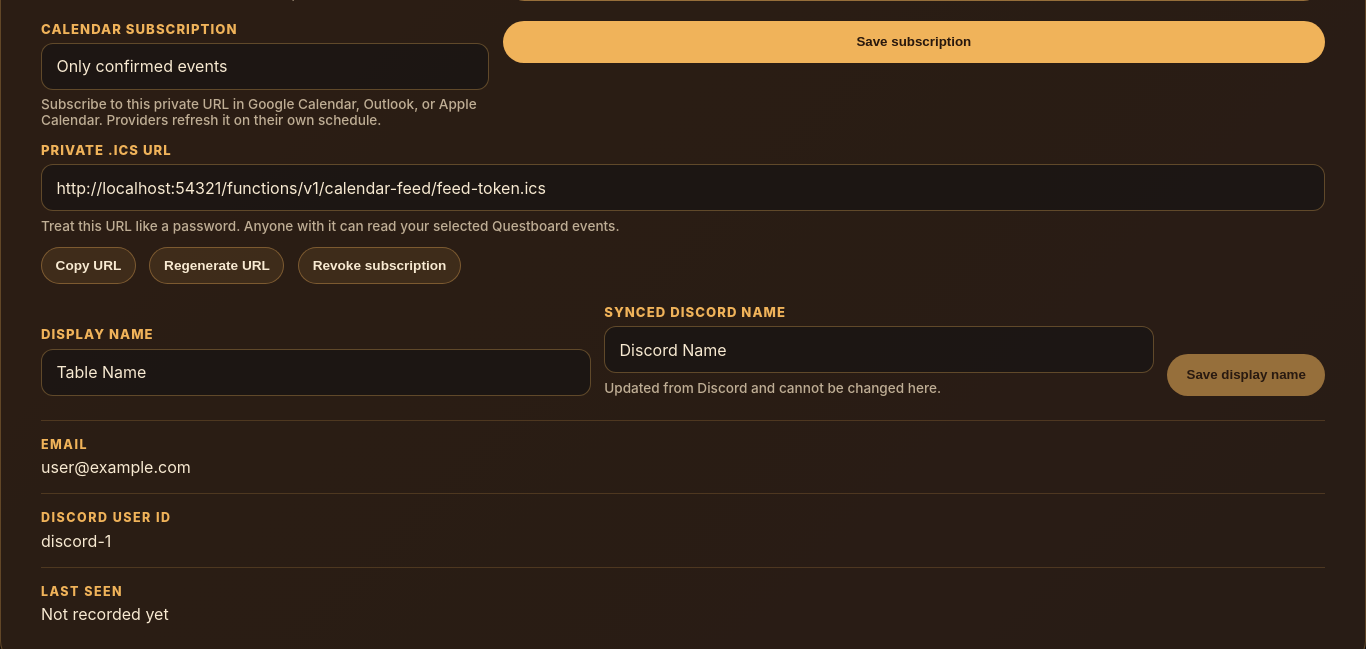
Test: ProfilePage › revokes an existing calendar subscription feed
(page scrolled)
Expected: the field labelled "Private .ics URL" holds "http://localhost:54321/functions/v1/calendar-feed/feed-token.ics", [41,164,1325,211]
Click the button "Revoke subscription" at coordinates (379, 266), box [298,247,461,284]
(page scrolled)
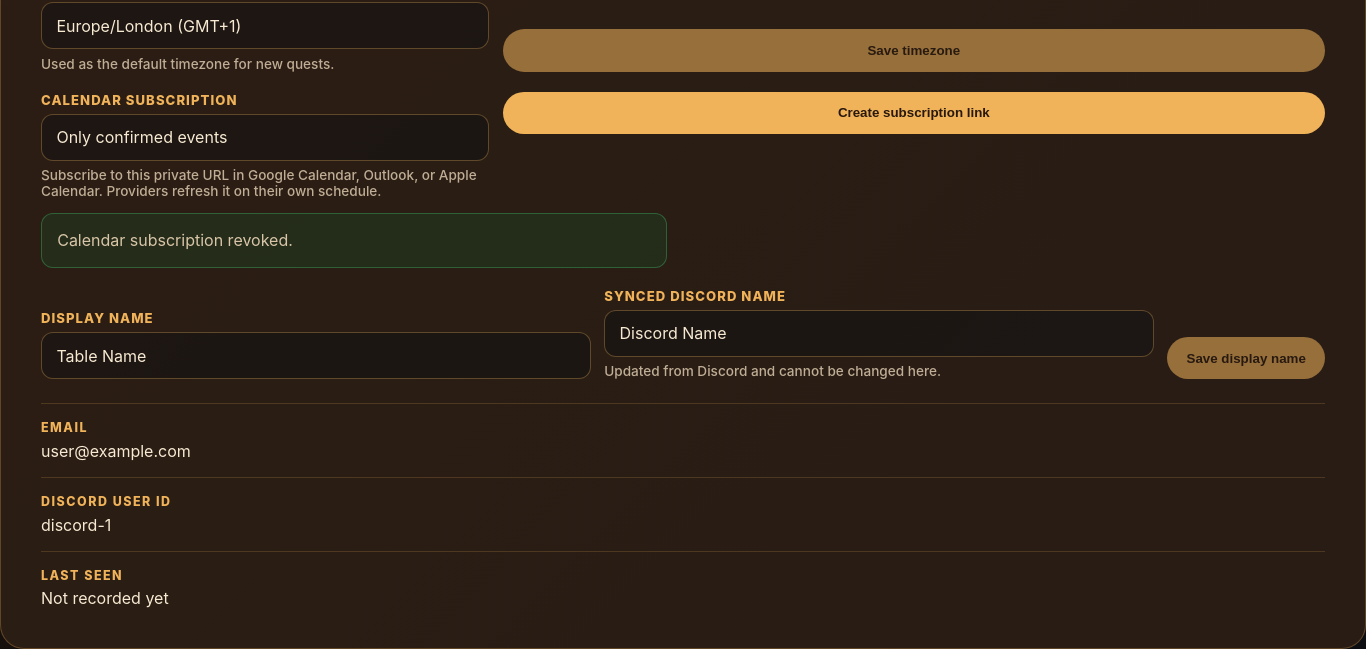
Expected: the label labelled "Private .ics URL" is gone
Expected: the text "Calendar subscription revoked." is shown, [41,213,667,268]
